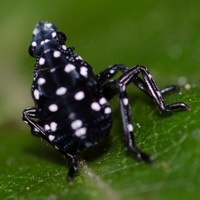insect: (23, 22, 189, 180)
